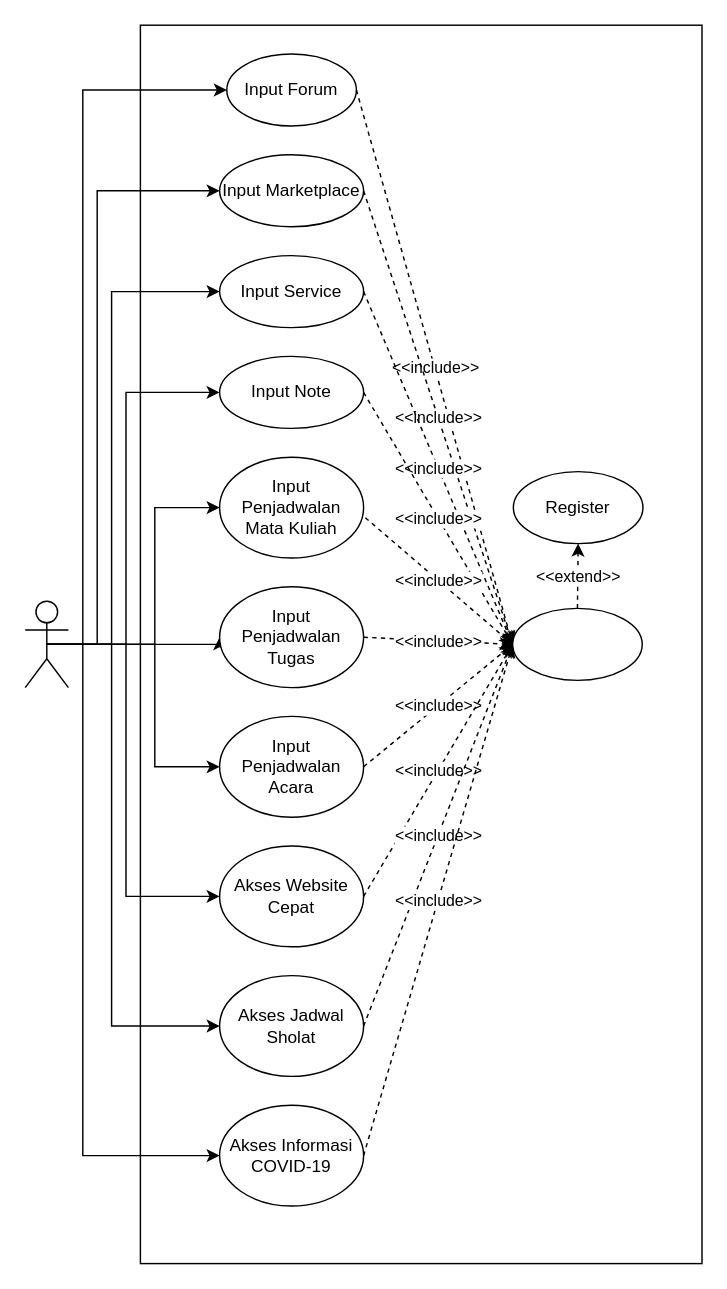
Image size: 727x1289. Some labels were removed from this diagram. Each missing label, with the box of its shape:
Login: (511, 607, 642, 680)
User: (24, 600, 68, 688)
